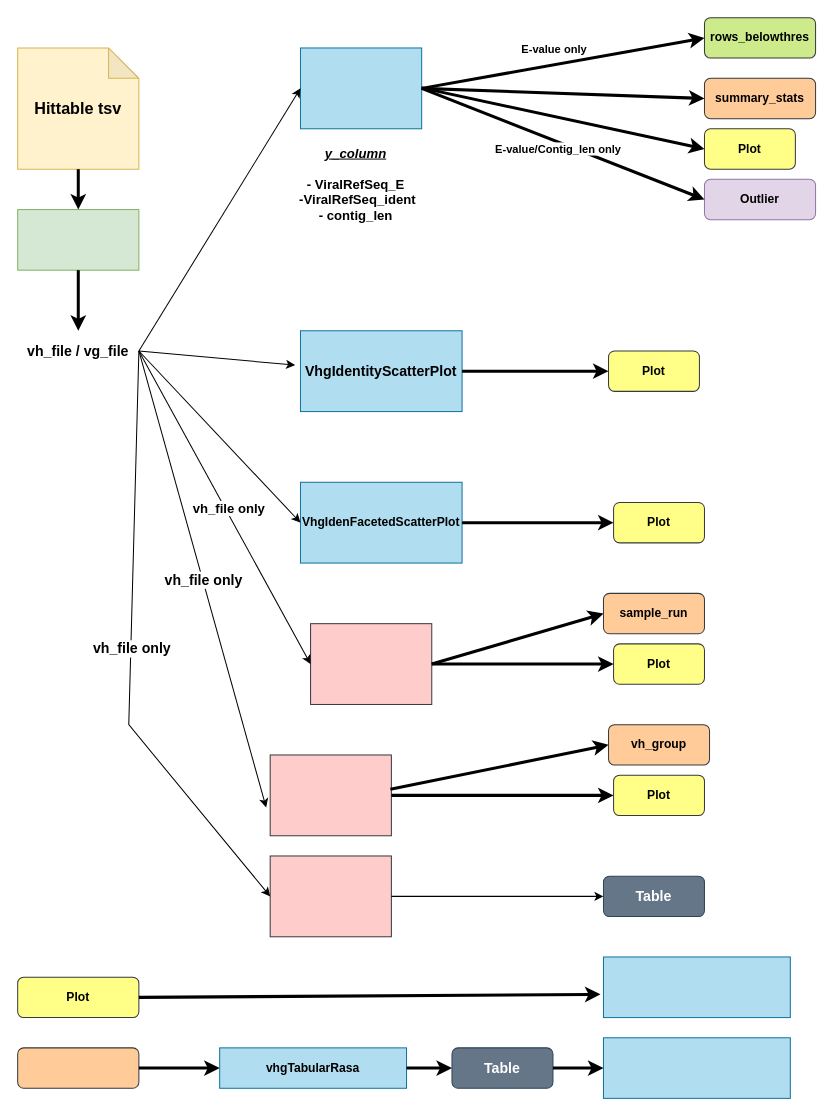
Some shapes in this 833 by 1116 pixel diagram are drawn without their labels. Here are the shapes that lost their labels. From the top down, the box of each, then its label:
(299, 47, 422, 129): VhgBoxplot
(17, 209, 139, 270): importVirusTable
(310, 623, 432, 704): vhRunsBarplot
(269, 754, 391, 836): vhSumHitsBarplot
(269, 855, 391, 937): vhRunsTable
(602, 956, 790, 1018): exportVirusPlot
(17, 1047, 139, 1088): Tabular Obj (DF)
(602, 1037, 790, 1098): exportVirusGt
